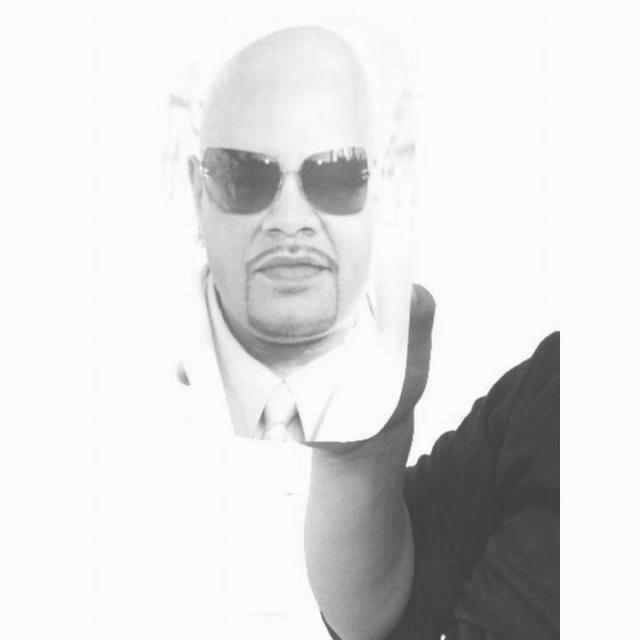fake: (147, 9, 426, 451)
